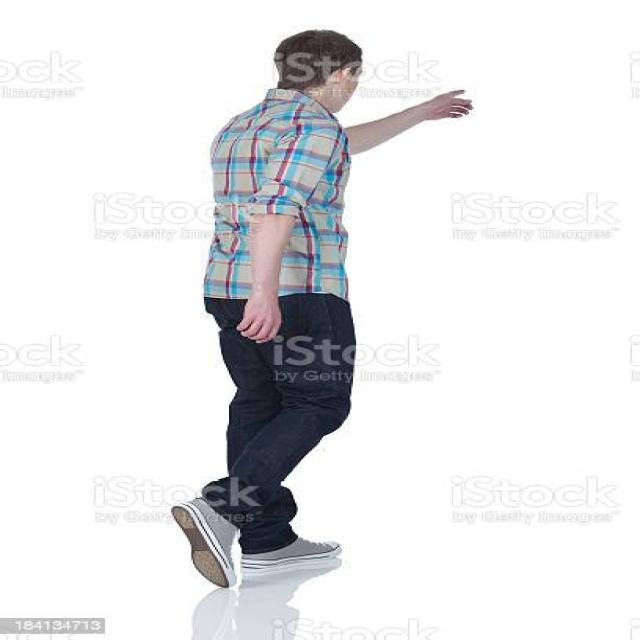Person: (170, 29, 472, 588)
